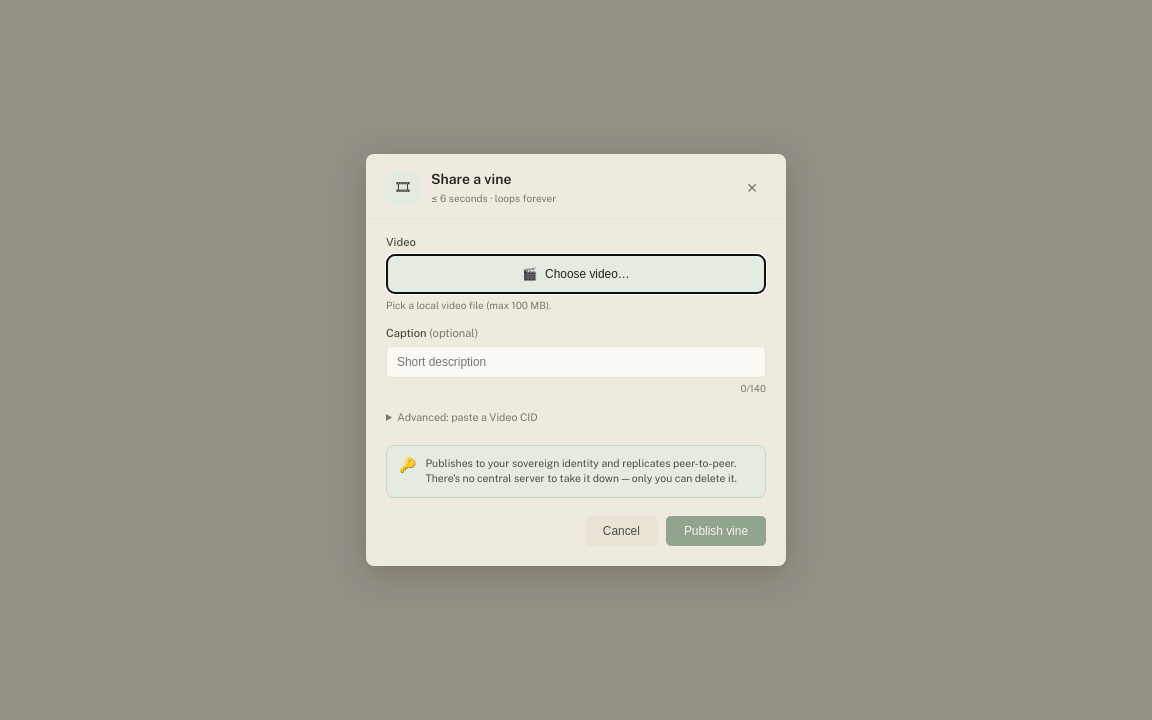
Scenario: VinePublishDialog (ZEB-559) › choosing a video ingests it, fills the CID, shows the filename, and enables Publish
Click the button with test id "choose-video".
click(576, 274)  # box [386, 254, 766, 294]
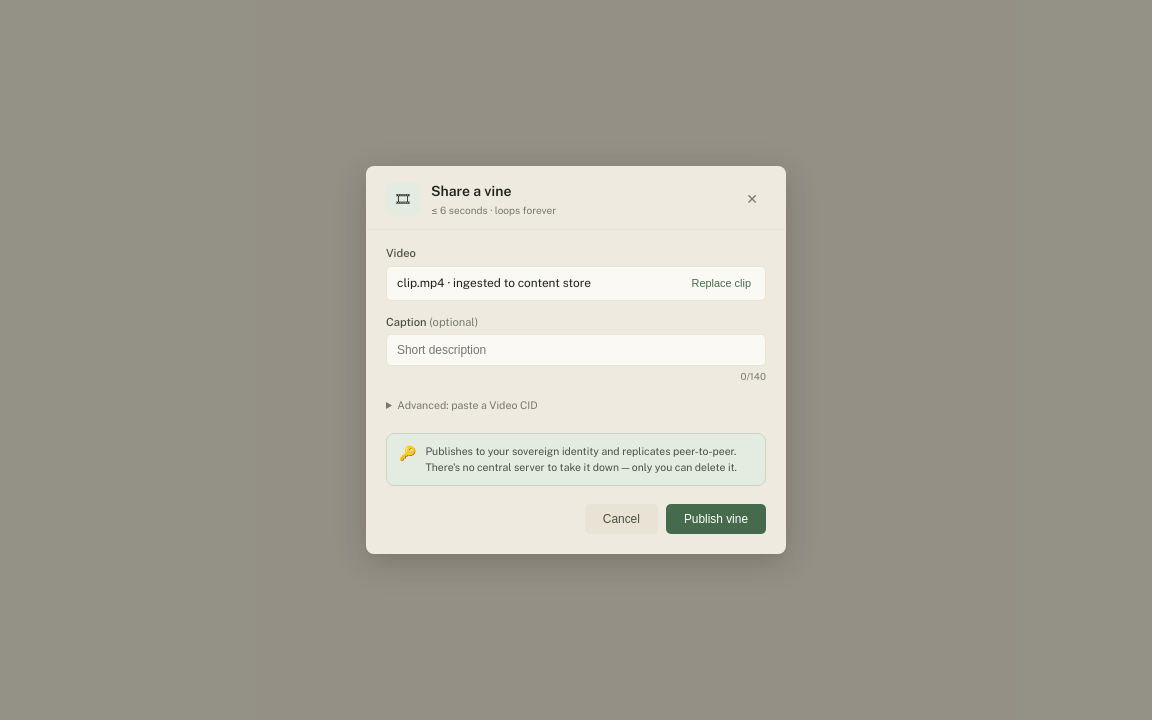
Result: the element with test id "picked-file" is shown at [386, 266, 766, 301]
Result: the element with test id "picked-file" shows "clip.mp4" at [397, 276, 591, 290]
Result: the button "Publish vine" is enabled at [666, 504, 766, 534]
